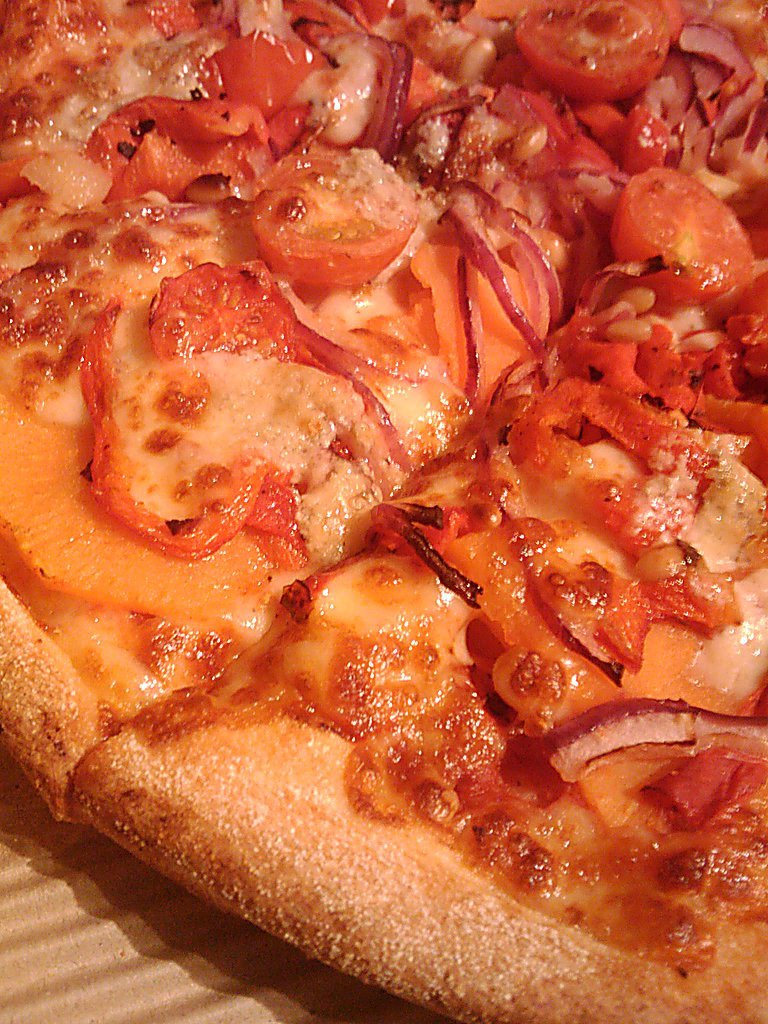Pizza: (27, 16, 753, 1011)
